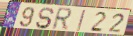2: (88, 12, 108, 33), (108, 13, 126, 33)
9: (19, 6, 36, 28)
I: (76, 9, 87, 32)
R: (50, 7, 74, 31)
S: (35, 7, 56, 30)
